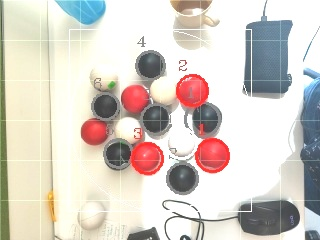Pelota blanca: (163, 213, 202, 240), (89, 63, 121, 93), (167, 127, 196, 159), (201, 219, 242, 240), (113, 117, 144, 144), (149, 75, 176, 105), (169, 0, 215, 16), (79, 211, 106, 231)
Pelota negra: (237, 199, 300, 237), (53, 0, 106, 27), (189, 101, 222, 138), (165, 163, 199, 196), (133, 49, 166, 81), (101, 137, 132, 171), (141, 105, 172, 138), (91, 91, 119, 118), (125, 227, 160, 240)
Pelota roja: (193, 137, 230, 174), (129, 141, 165, 177), (175, 73, 210, 108), (119, 83, 151, 114), (79, 117, 111, 147)
